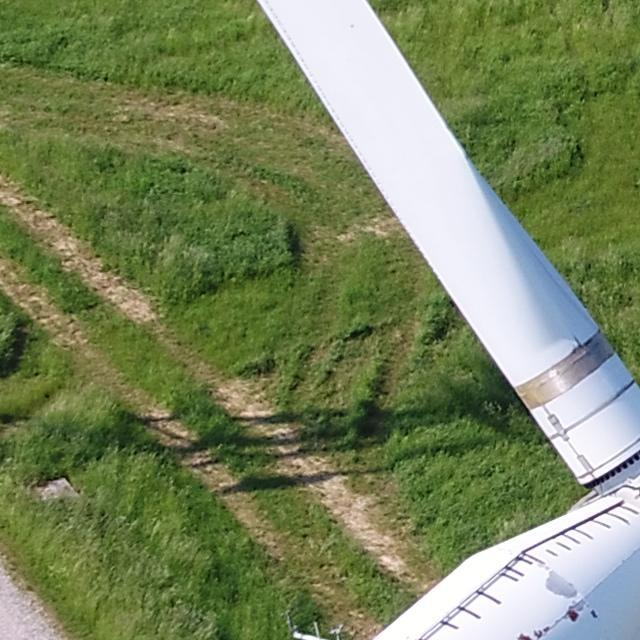damage: (545, 570, 578, 598), (533, 625, 552, 638), (565, 609, 580, 624), (570, 334, 585, 349), (515, 633, 535, 639), (590, 608, 599, 620)
